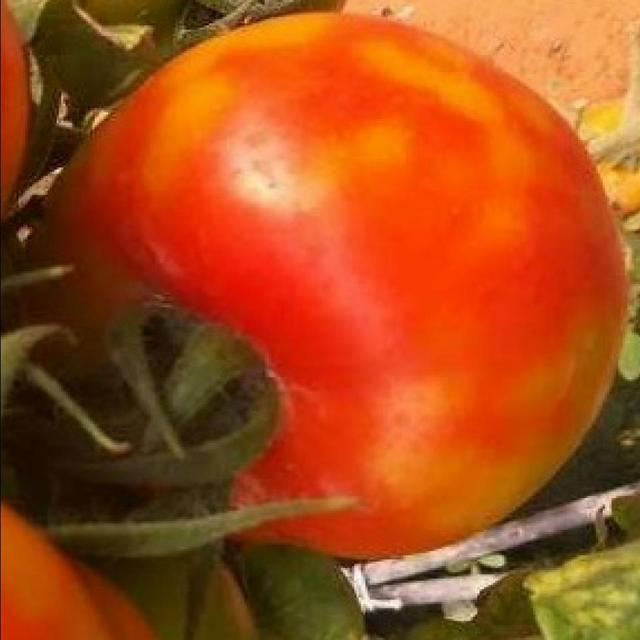Spotted wilt Virus Fruit: (16, 7, 419, 374)
